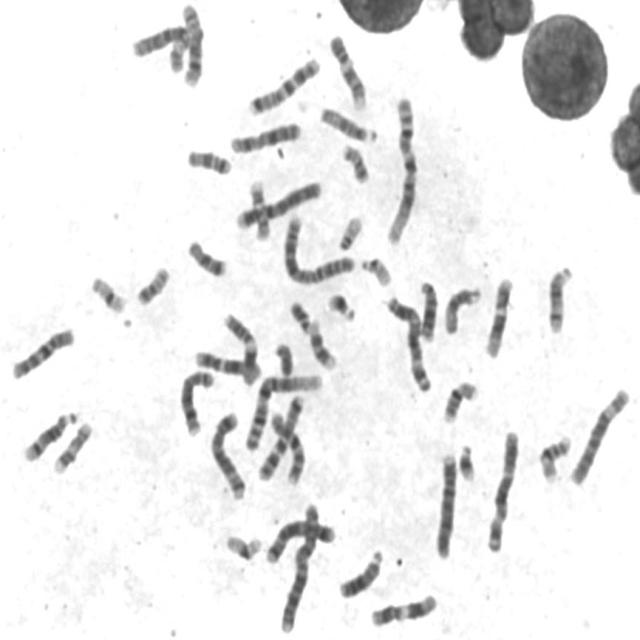A1: (242, 368, 326, 453), (382, 91, 420, 248)
A2: (276, 497, 322, 636), (279, 210, 357, 288)
A3: (383, 290, 434, 394), (482, 426, 522, 555)
B4: (230, 175, 324, 231), (431, 448, 460, 561)
B5: (262, 514, 338, 566), (207, 406, 248, 500)
C10: (8, 321, 78, 382), (266, 406, 308, 487)
C11: (220, 308, 262, 386), (367, 589, 439, 629)
C12: (481, 272, 515, 360), (192, 344, 263, 385)
C6: (566, 382, 633, 487), (128, 19, 193, 75)
C7: (244, 51, 322, 118), (254, 389, 308, 484)
C8: (175, 363, 217, 438), (177, 0, 206, 90)
C9: (286, 296, 340, 372), (326, 28, 369, 112)
D13: (335, 544, 385, 600), (416, 276, 440, 344)
D14: (19, 406, 79, 463), (544, 259, 576, 335)
D15: (316, 102, 379, 144), (441, 281, 484, 336)
E16: (536, 430, 573, 484), (440, 376, 480, 425)
E17: (50, 417, 94, 476), (245, 175, 273, 242)
E18: (184, 234, 229, 278), (183, 144, 234, 176)
F19: (88, 270, 130, 315), (222, 529, 264, 562)
F20: (133, 261, 172, 308), (338, 138, 372, 185)
G21: (323, 287, 358, 323), (455, 438, 478, 484)
G22: (357, 252, 394, 288), (335, 210, 365, 252)
X: (227, 116, 304, 155)
Y: (270, 337, 296, 378)
